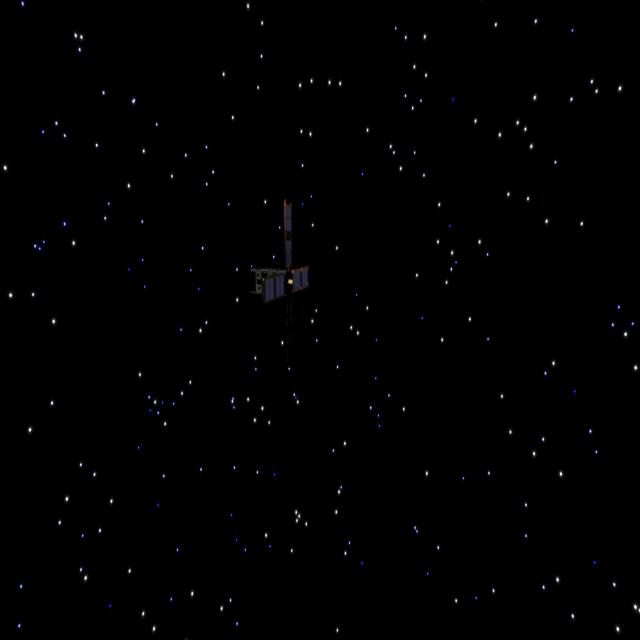medium_debris: (237, 205, 329, 320)
